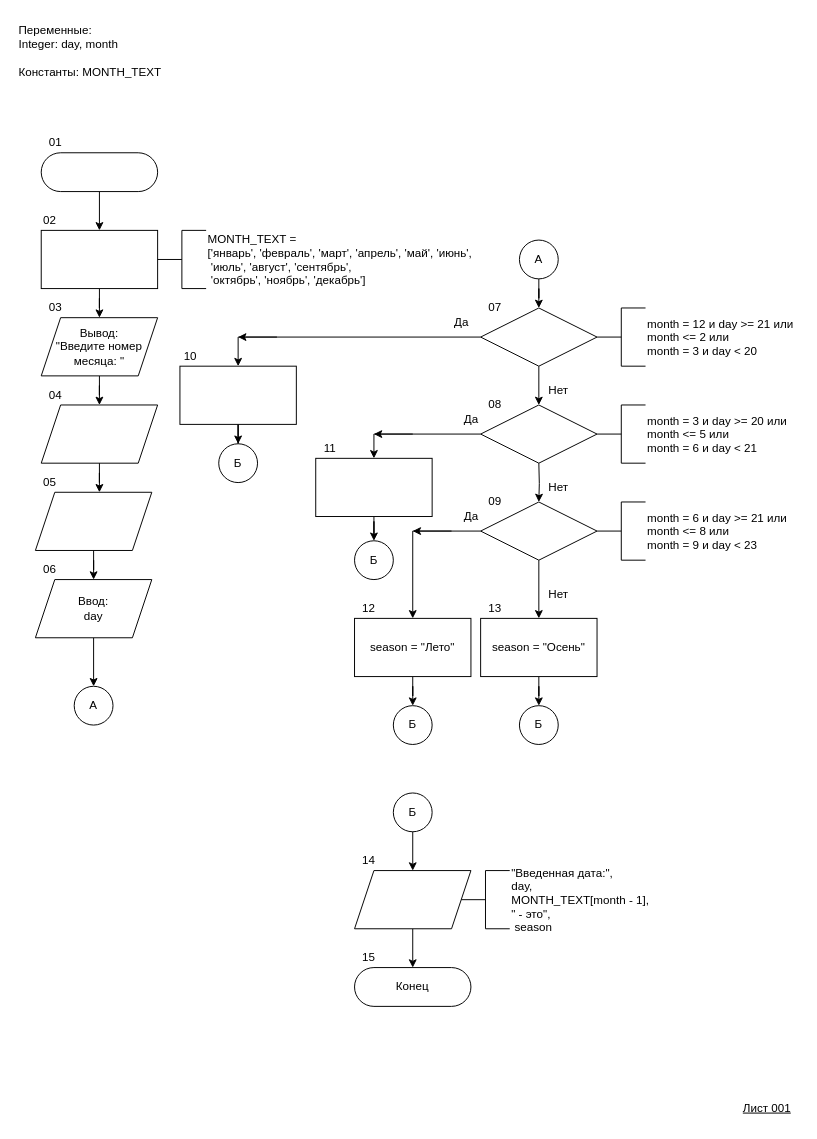
Image size: 817x1139. Some labels were removed from this diagram. The box of each missing label's shape, as (x1, y1, x2, y2) in pixels:
season = "Весна": (315, 457, 432, 517)
season = "Зима": (179, 365, 296, 424)
Ввод: month: (40, 404, 158, 463)
Вывод:: (354, 870, 471, 929)
Вывод: "Введите день:": (34, 491, 152, 550)
Начало: (40, 152, 158, 192)
